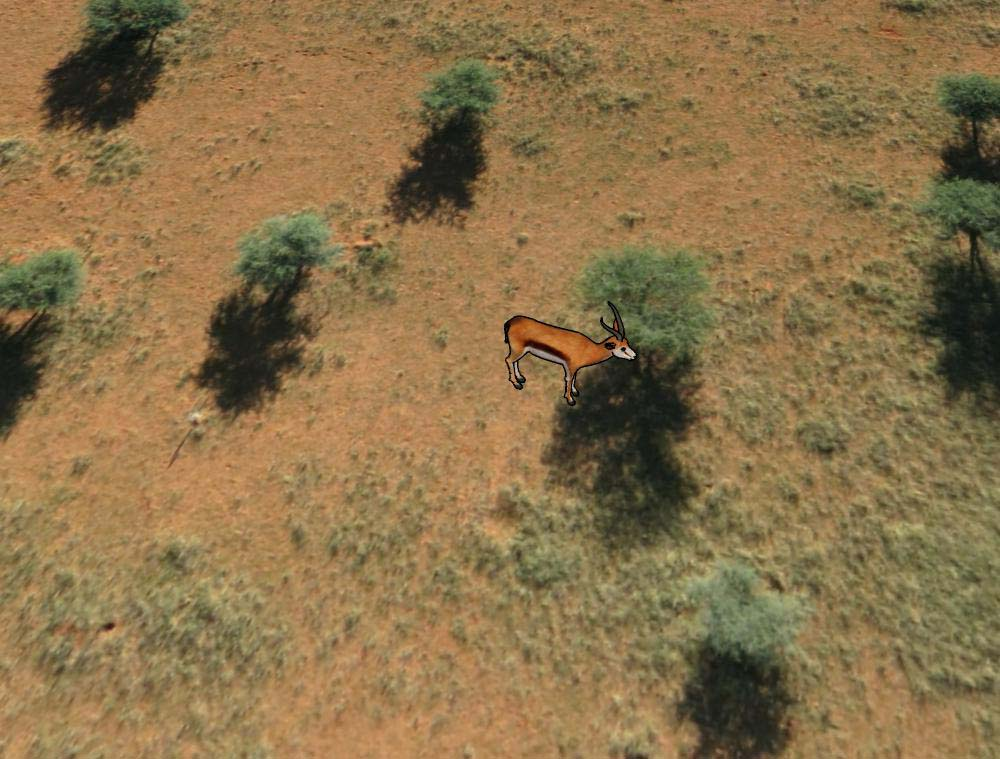springbok: (499, 295, 639, 407)
